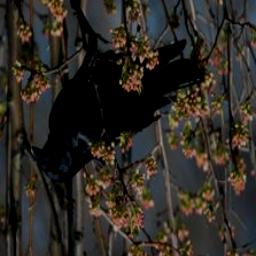Crow: (23, 0, 201, 190)
